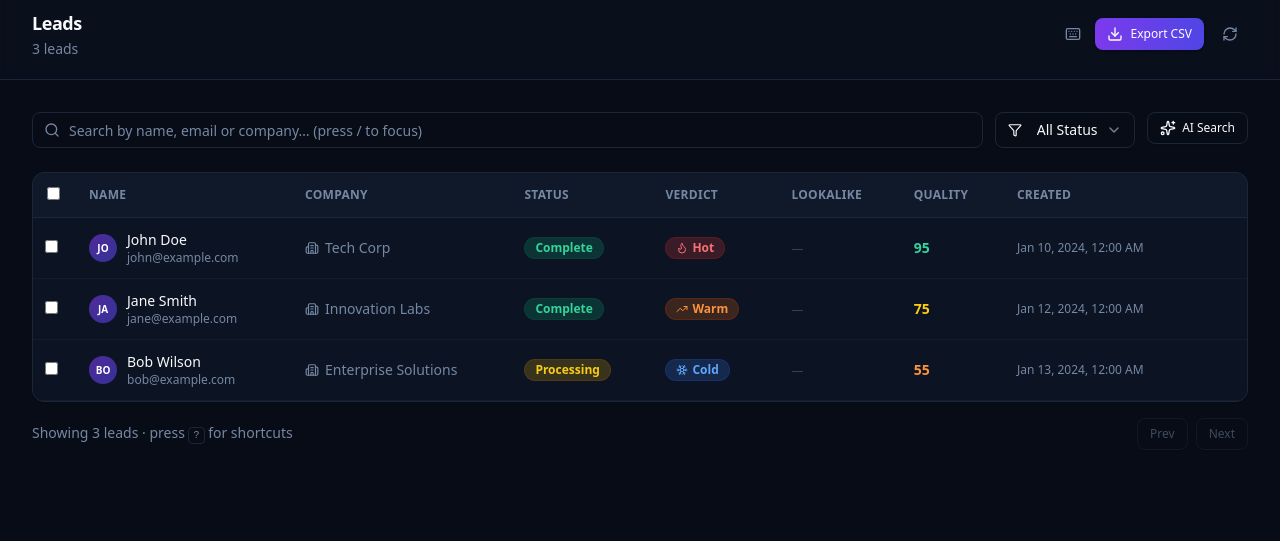
Leads page › delete bulk action button appears when rows selected
Expected: the text "John Doe" is shown, [127,230,187,249]
What coordinates should you click on to do the following:
click the checkbox in the row of "John Doe"
I would click on:
 (52, 246)
Its box is [45,240,58,253].
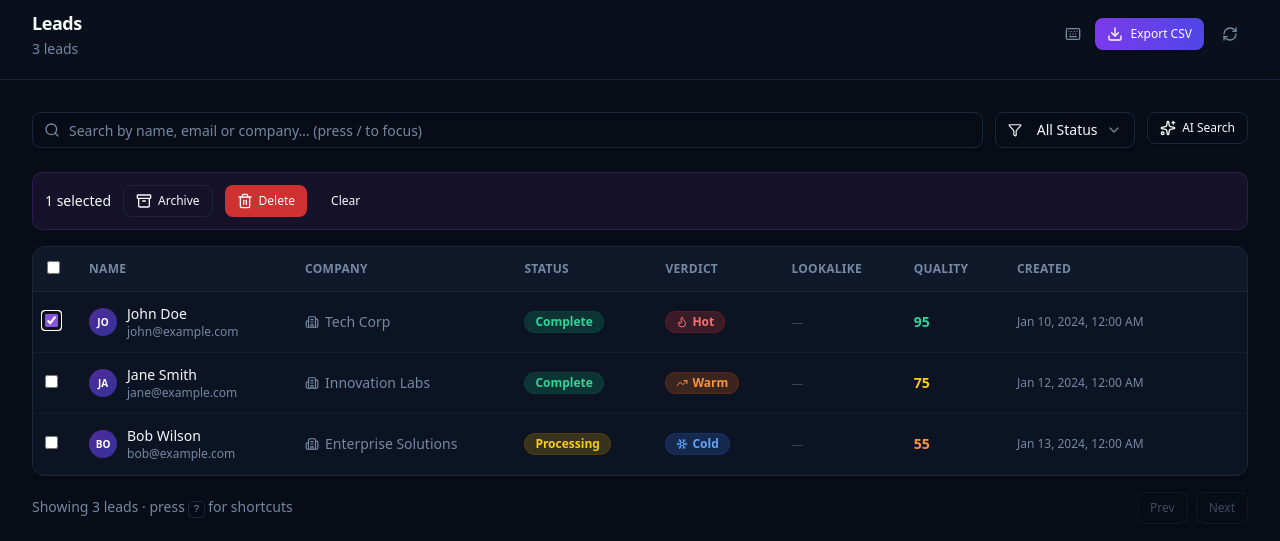
Now the button "Delete" is shown, box [225,185,307,217]
